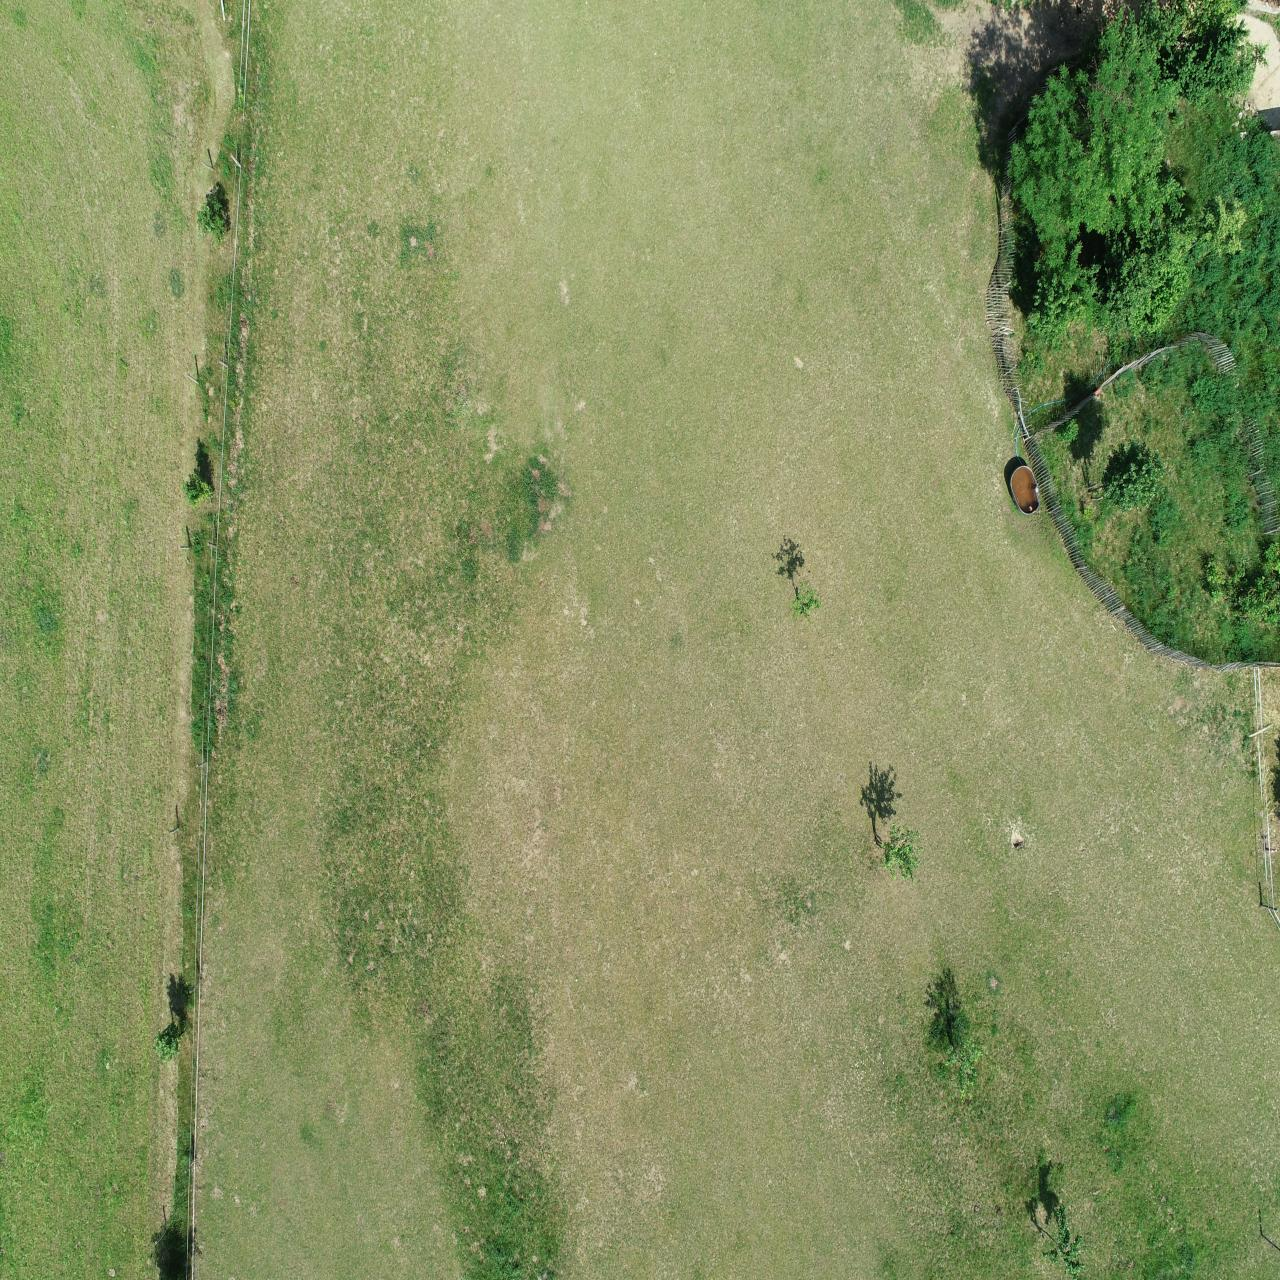cow: (995, 15, 1029, 69), (887, 9, 920, 52), (1032, 2, 1055, 60), (955, 121, 988, 157), (1057, 0, 1073, 35)
